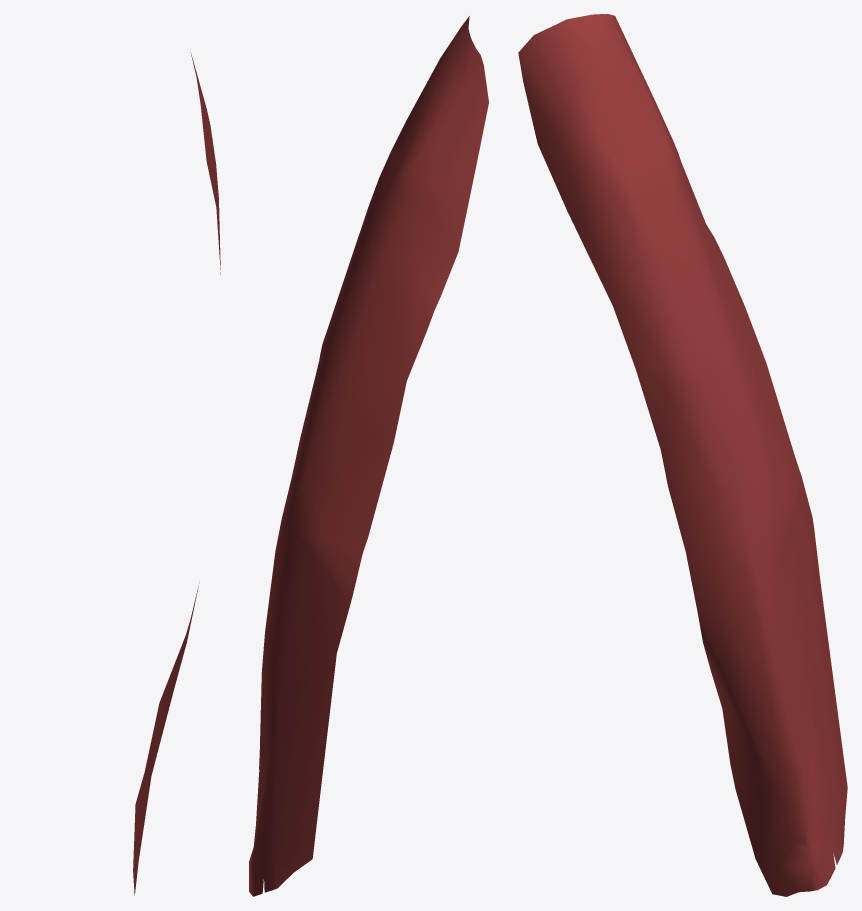
File: rhomboid-minor-muscle-er.glb
The picture shows the model from 3 angles, left to right: view 1: azimuth 30°, elevation 25°; view 2: azimuth 150°, elevation 25°; view 3: azimuth 270°, elevation 25°; orthographic projection. The views are drawn at different scales.
Visible parts, largest first — view 1: Rhomboid minor muscle.er; view 2: Rhomboid minor muscle.er; view 3: Rhomboid minor muscle.er.
Boxes of the visible parts, x1=… form: Rhomboid minor muscle.er: x1=133, y1=52, x2=220, y2=895; Rhomboid minor muscle.er: x1=249, y1=16, x2=488, y2=896; Rhomboid minor muscle.er: x1=518, y1=14, x2=847, y2=896.
Bounding box in the file's own units: 0.00543 × 0.0274 × 0.00979.
